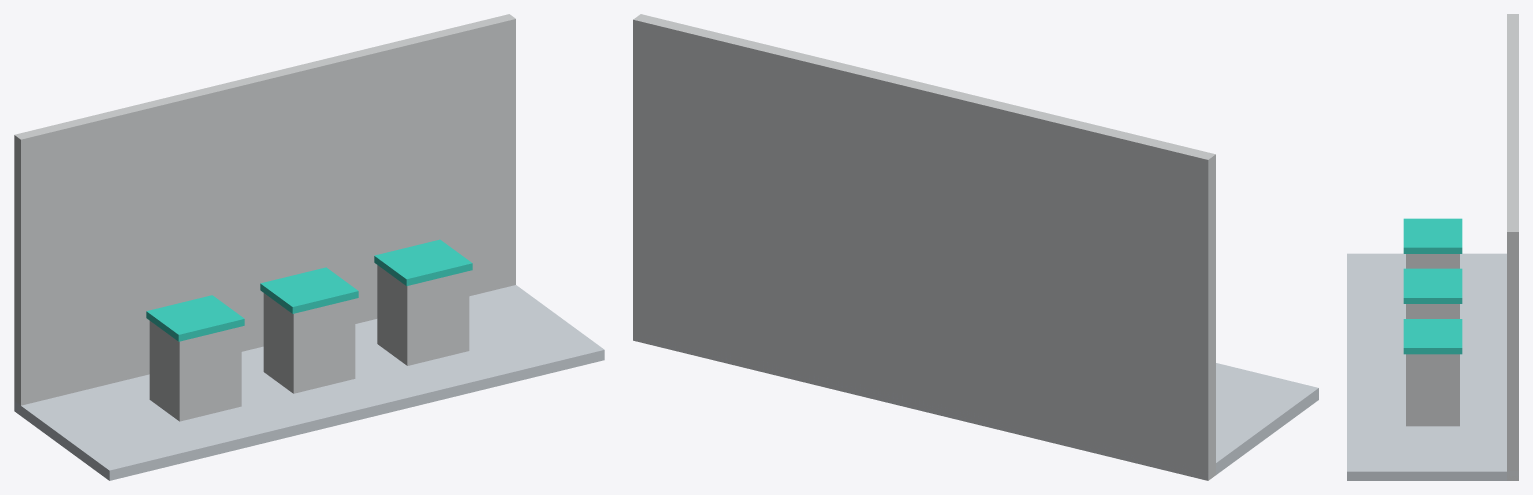
3 views of the same model, side by side, from view 1: azimuth 30°, elevation 25°; view 2: azimuth 150°, elevation 25°; view 3: azimuth 270°, elevation 25° (orthographic). The views are drawn at different scales.
Parts seen in each view (by area): view 1: Exhibition Booth Concept; view 2: Exhibition Booth Concept; view 3: Exhibition Booth Concept.
Boxes of the visible parts, bbox=[...] form: Exhibition Booth Concept: bbox=[14, 14, 604, 480]; Exhibition Booth Concept: bbox=[633, 14, 1318, 480]; Exhibition Booth Concept: bbox=[1347, 14, 1518, 480].
Bounding box in the file's own units: 6 × 3.2 × 2.
